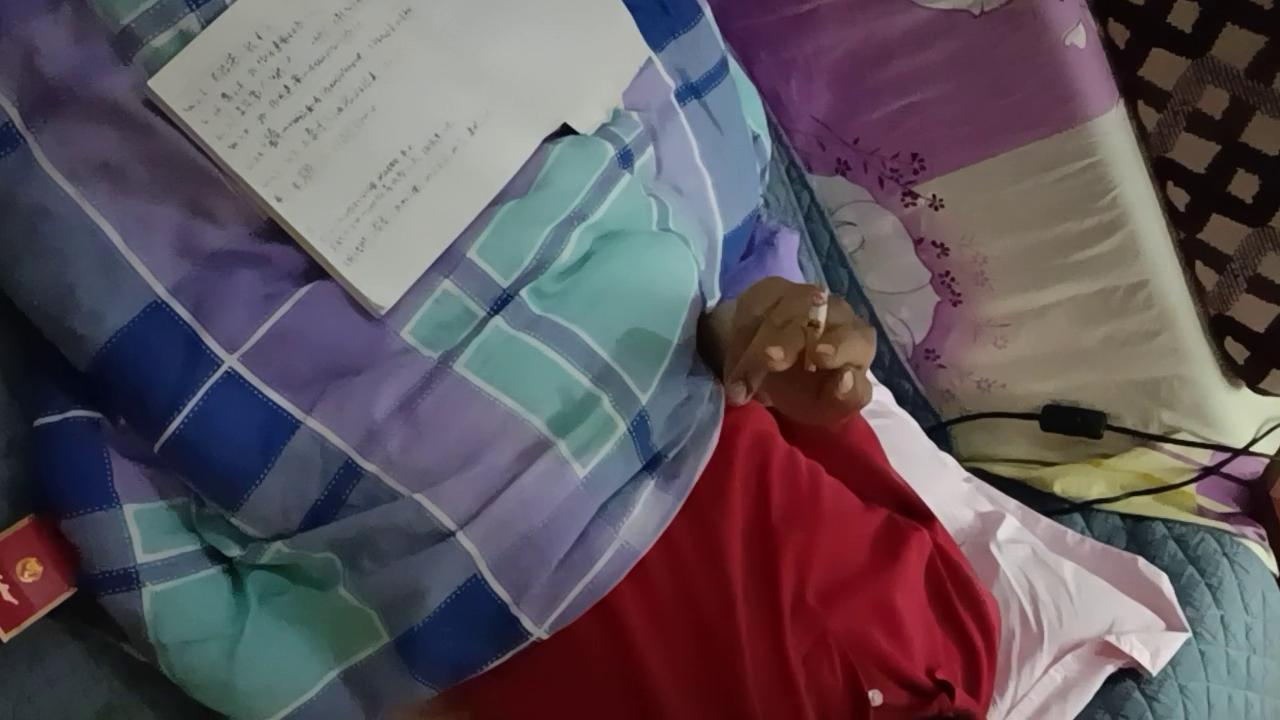smoke: (802, 290, 830, 373)
